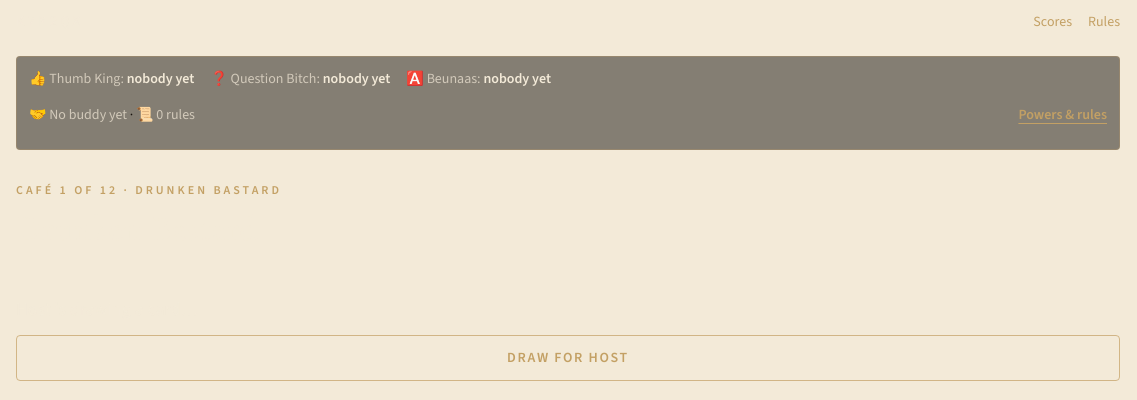
Test: Drunken Bastard › someone else's turn: wait, or take over when their phone died
The width and height of the screenshot is (1137, 400).
Expected: the button "Show my 10 cards" is not shown
Click the button "Draw for Host" at (568, 358), box [16,335,1120,381]
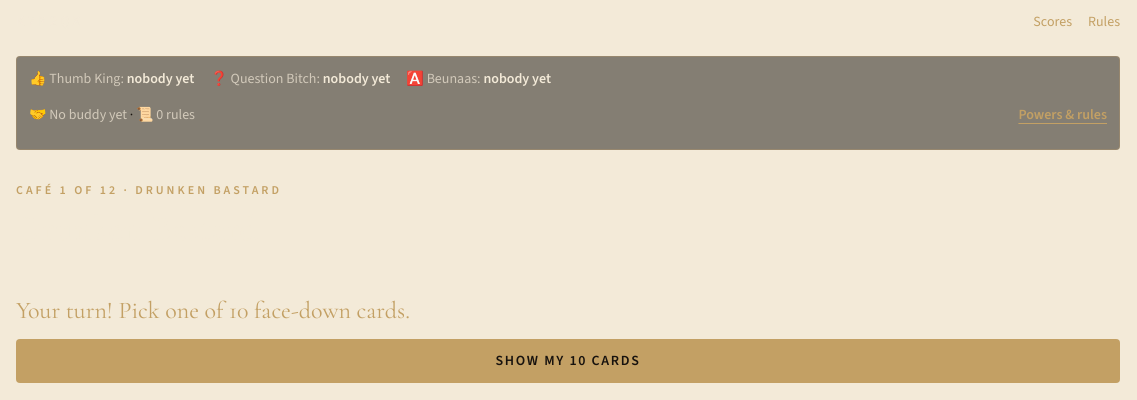
Expected: the button "Show my 10 cards" is shown, [16,339,1120,383]
